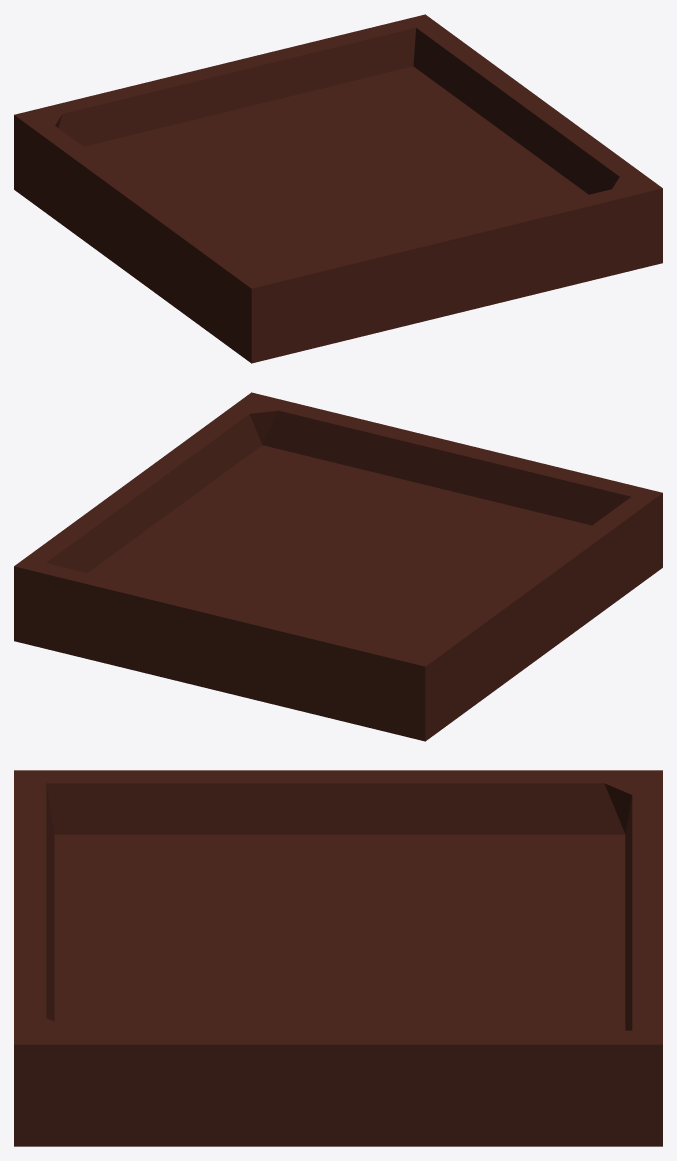
File: StaticTable.obj
The picture shows the model from 3 angles, top to bottom: view 1: azimuth 30°, elevation 25°; view 2: azimuth 150°, elevation 25°; view 3: azimuth 270°, elevation 25°; orthographic projection. The views are drawn at different scales.
Parts seen in each view (by area): view 1: StaticTable_Cube; view 2: StaticTable_Cube; view 3: StaticTable_Cube.
Part boxes in pixels (x1=…): StaticTable_Cube: x1=14, y1=14, x2=662, y2=363; StaticTable_Cube: x1=14, y1=392, x2=662, y2=741; StaticTable_Cube: x1=14, y1=770, x2=662, y2=1146.
Bounding box in the file's own units: 12.1 × 2.1 × 12.1.
